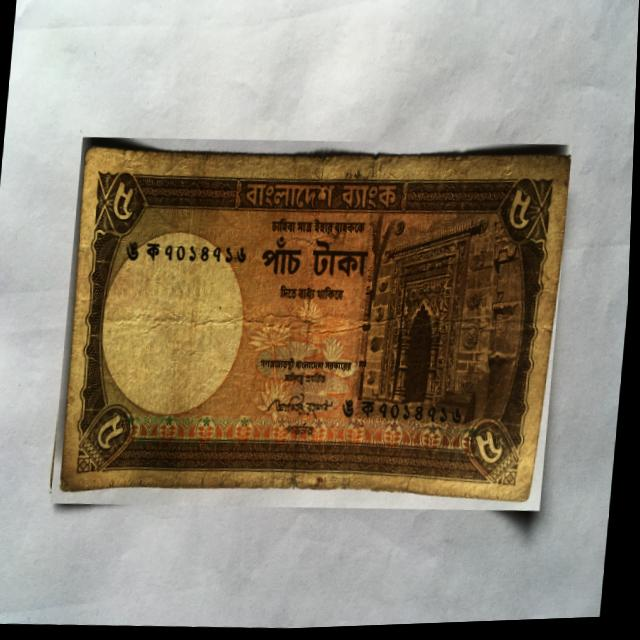Taka: (54, 124, 574, 530)
